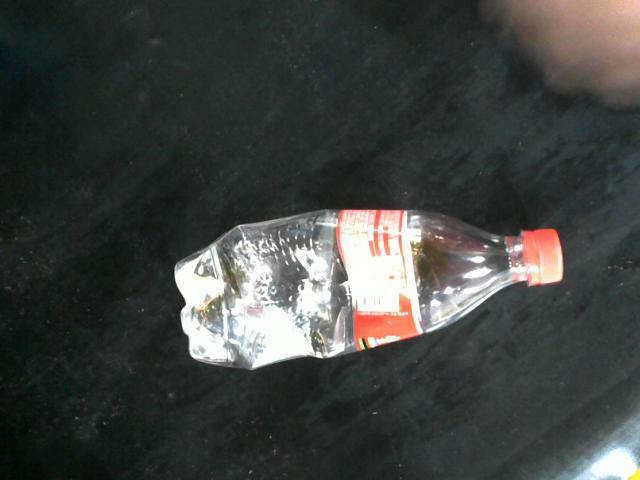bottle: (173, 207, 565, 373)
